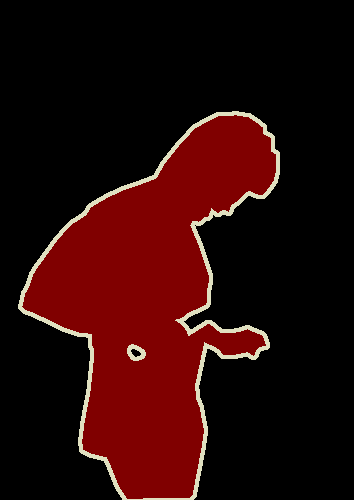person: (21, 115, 280, 500)
person/hand: (130, 310, 191, 356), (217, 329, 269, 359)
person/head: (175, 115, 277, 223)
